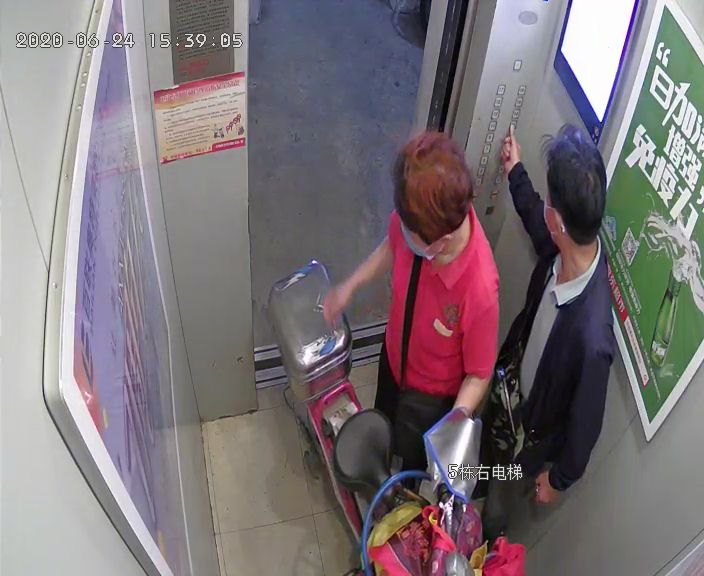Electric-bicycle: (262, 256, 494, 561)
